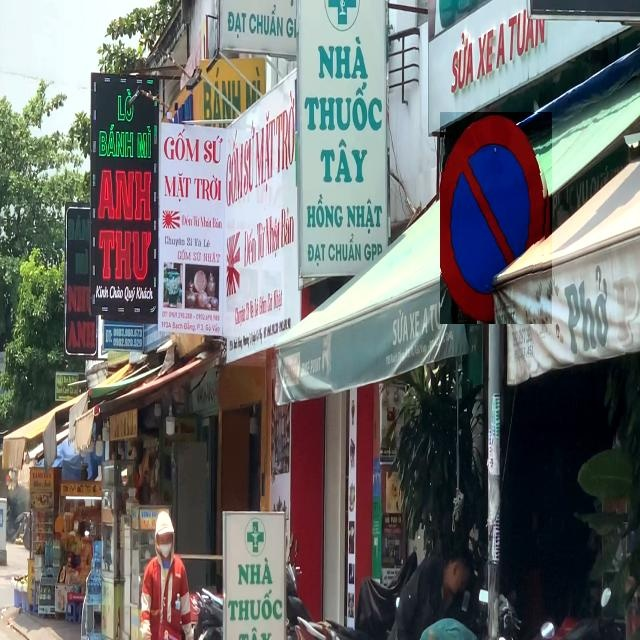bien_cam: (440, 112, 552, 324)
